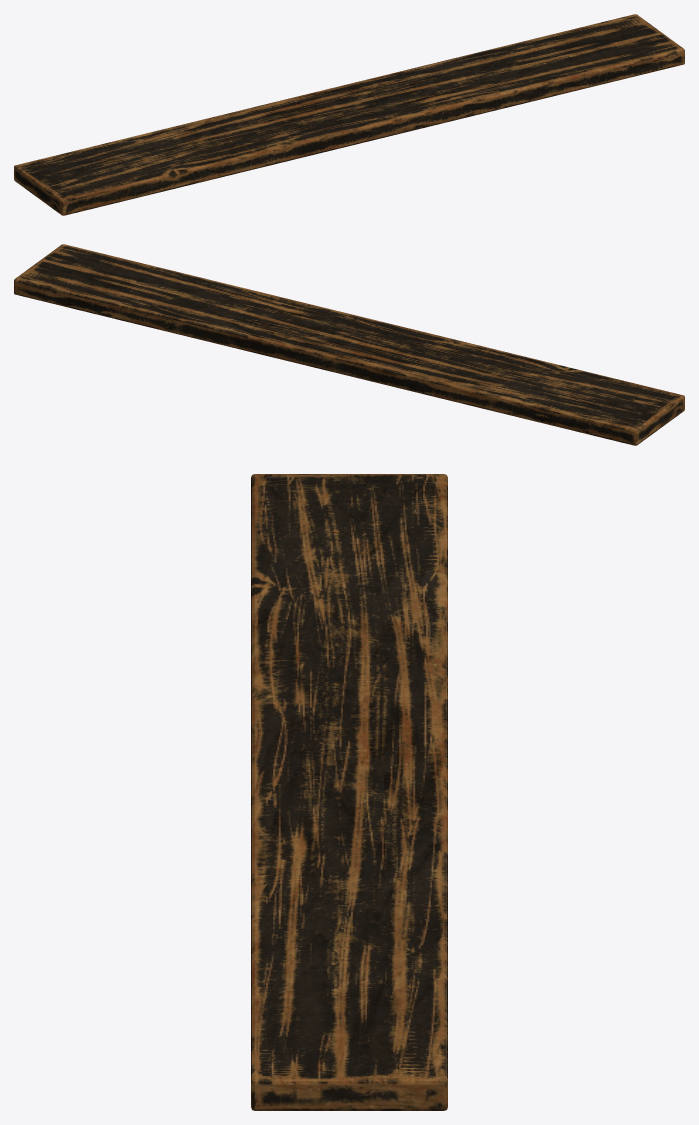
File: old_colored_wooden_plank._low_poly.glb
3 views of the same model, one above another, from view 1: azimuth 30°, elevation 25°; view 2: azimuth 150°, elevation 25°; view 3: azimuth 270°, elevation 25° (orthographic). The views are drawn at different scales.
Visible parts, largest first — view 1: Cube; view 2: Cube; view 3: Cube.
Part boxes in pixels (bbox=[...]): Cube: bbox=[14, 14, 684, 215]; Cube: bbox=[14, 244, 684, 445]; Cube: bbox=[251, 474, 447, 1110].
Size of the model in its own units: 2 by 0.0484 by 0.2742.
Materials: 1 (1 with a texture image).
